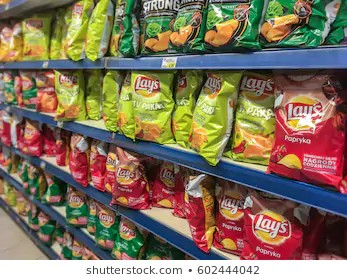lays-med: (268, 76, 343, 173), (237, 194, 310, 259), (227, 76, 274, 165), (131, 71, 174, 143), (216, 189, 246, 252), (115, 158, 148, 212), (54, 75, 88, 123), (115, 221, 146, 260), (22, 14, 48, 59), (155, 160, 175, 209), (95, 209, 116, 248), (66, 188, 85, 229)
